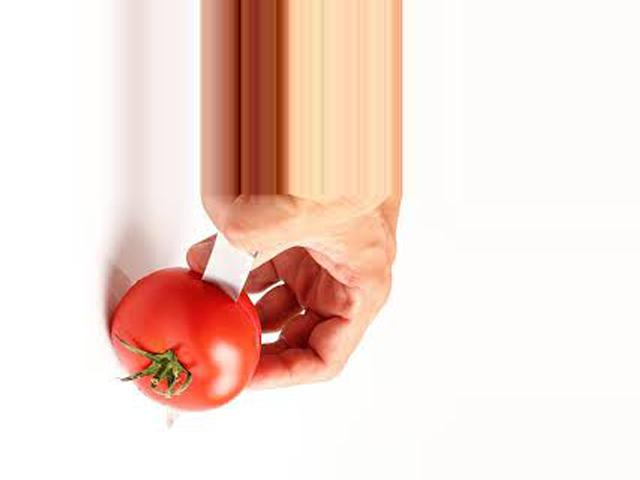tomato: (110, 268, 261, 409)
